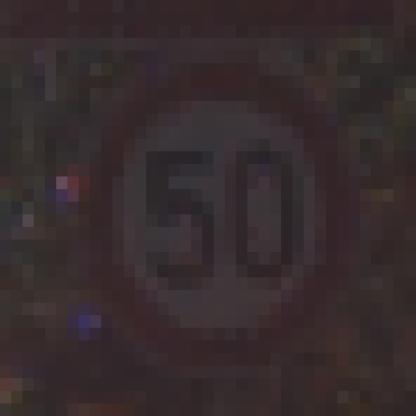Speed Limit 50: (80, 61, 350, 358)
